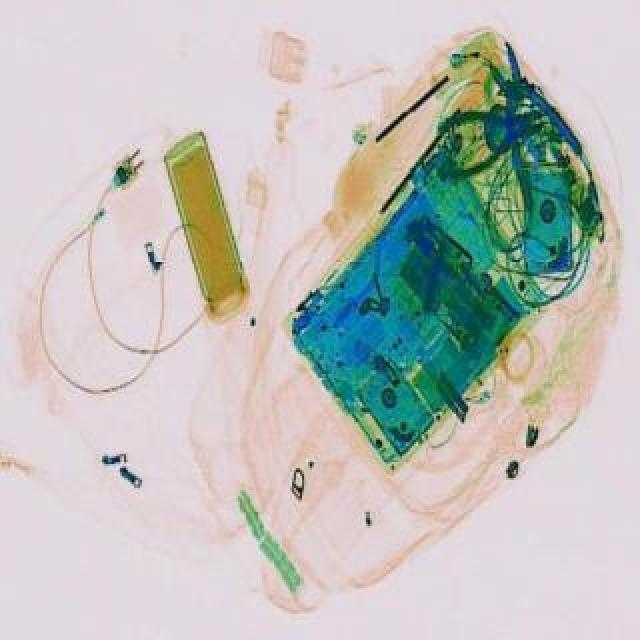wrench: (454, 36, 598, 216), (426, 92, 554, 186)
